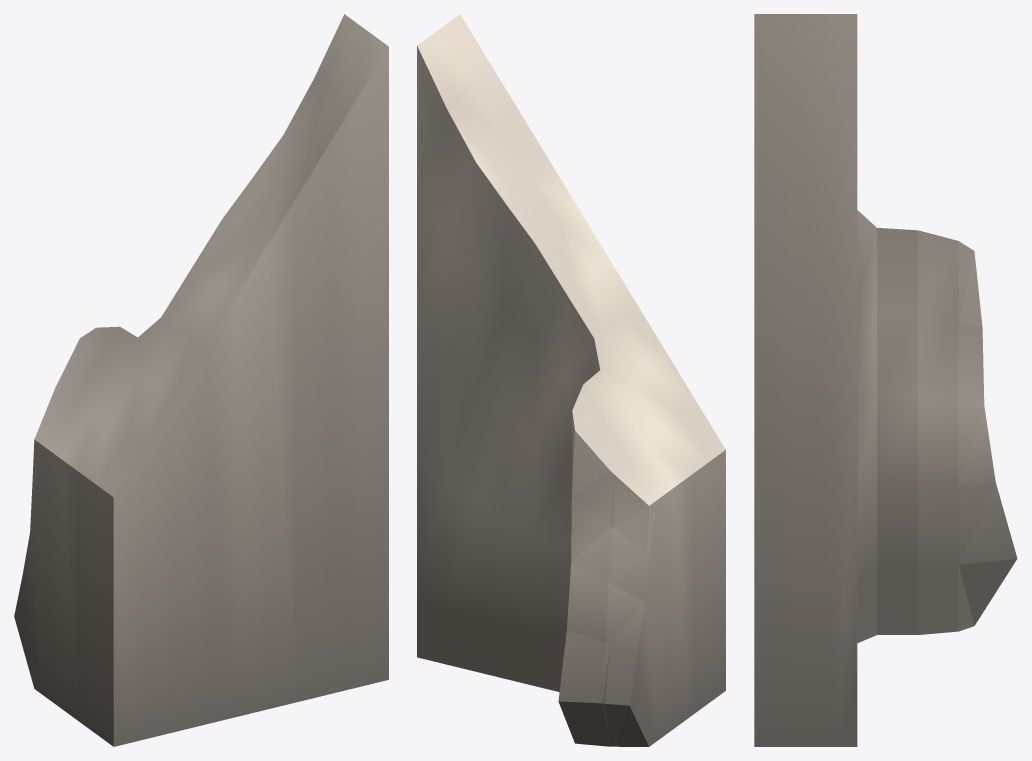
Rendered from SM_VKI_Rock_Cave_CFOO_WallEN.fbx.
The picture shows the model from 3 angles, left to right: view 1: azimuth 30°, elevation 25°; view 2: azimuth 150°, elevation 25°; view 3: azimuth 270°, elevation 25°; orthographic projection. The views are drawn at different scales.
Visible parts, largest first — view 1: SM_VKI_Rock_Cave_CFOO_WallEN.001; view 2: SM_VKI_Rock_Cave_CFOO_WallEN.001; view 3: SM_VKI_Rock_Cave_CFOO_WallEN.001.
Part boxes in pixels (x1=…): SM_VKI_Rock_Cave_CFOO_WallEN.001: x1=14, y1=14, x2=388, y2=746; SM_VKI_Rock_Cave_CFOO_WallEN.001: x1=417, y1=14, x2=725, y2=746; SM_VKI_Rock_Cave_CFOO_WallEN.001: x1=754, y1=14, x2=1017, y2=746.
Bounding box in the file's own units: 1.5 × 3.3 × 1.07.
